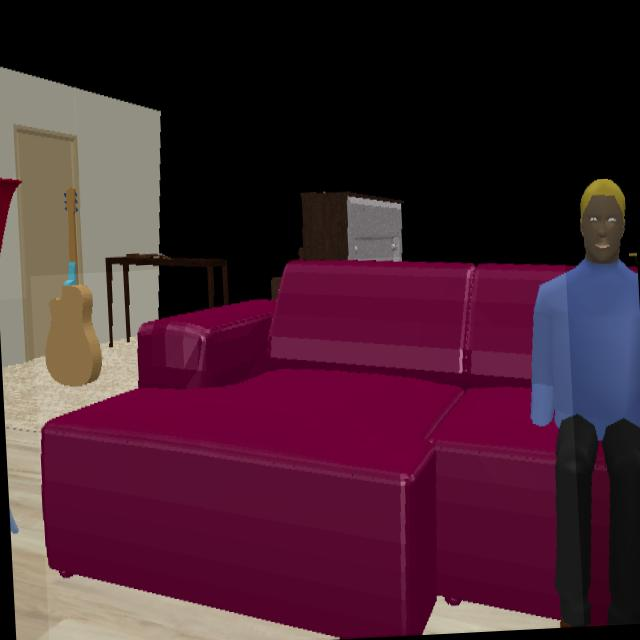chair: (0, 179, 21, 297)
person: (531, 180, 640, 627)
sofa: (40, 263, 566, 639)
